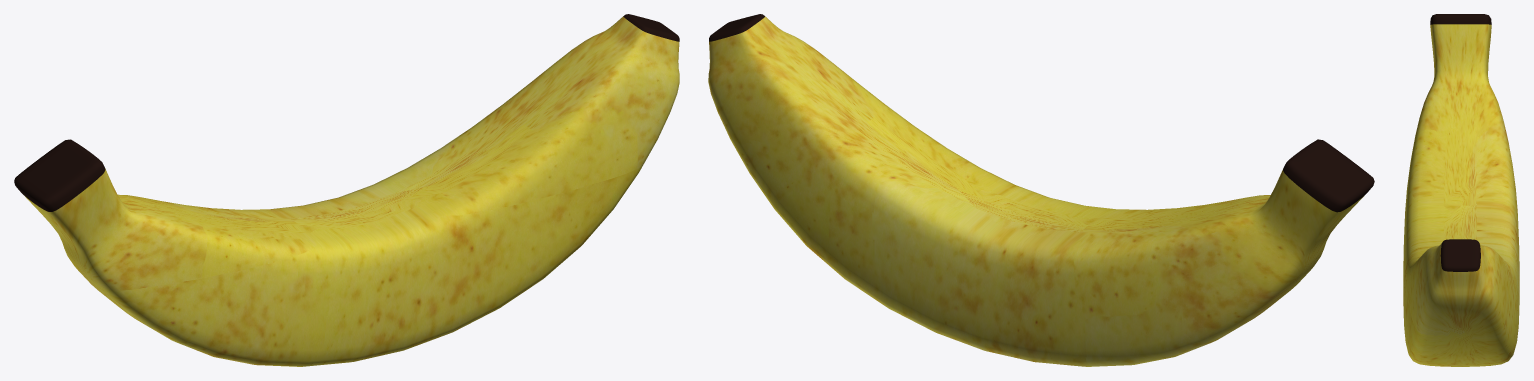
File: banana.FBX
3 views of the same model, side by side, from view 1: azimuth 30°, elevation 25°; view 2: azimuth 150°, elevation 25°; view 3: azimuth 270°, elevation 25° (orthographic). The views are drawn at different scales.
Visible parts, largest first — view 1: Cylinder006; view 2: Cylinder006; view 3: Cylinder006.
Boxes of the visible parts, box(x1,y1,x2,y2) form: Cylinder006: box(14, 14, 679, 366); Cylinder006: box(708, 14, 1374, 366); Cylinder006: box(1403, 14, 1519, 366).
Bounding box in the file's own units: 154 × 58.45 × 29.31.
Materials: 2 (1 with a texture image).
